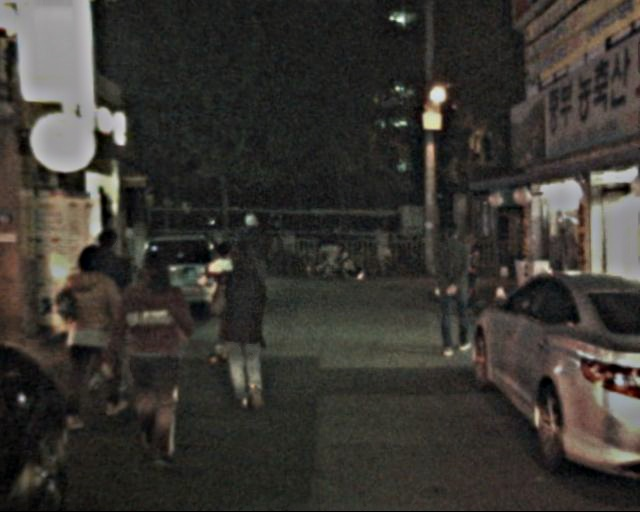person: (116, 247, 200, 461), (56, 244, 130, 425), (211, 246, 280, 409), (76, 226, 144, 388), (424, 221, 481, 359), (192, 238, 244, 364), (232, 209, 273, 318), (315, 217, 347, 280)
